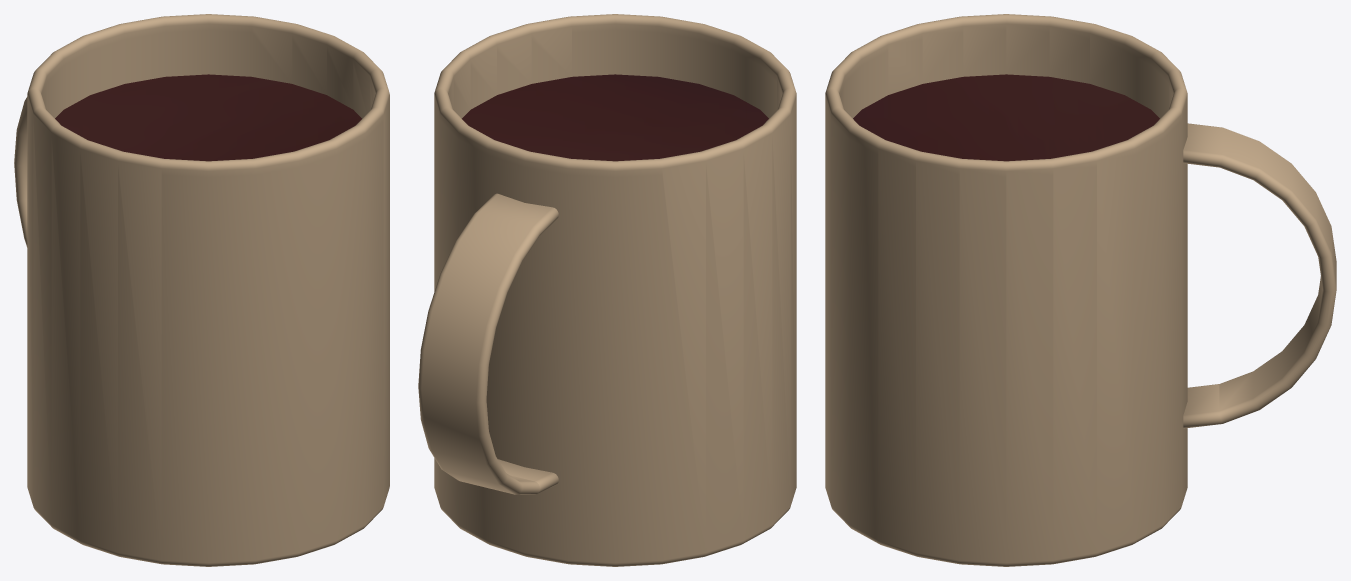
3 views of the same model, side by side, from view 1: azimuth 30°, elevation 25°; view 2: azimuth 150°, elevation 25°; view 3: azimuth 270°, elevation 25° (orthographic).
Visible parts, largest first — view 1: mesh4_mesh4-geometry, mesh4_mesh4-geometry_2, mesh1_mesh1-geometry; view 2: mesh4_mesh4-geometry, mesh1_mesh1-geometry, mesh4_mesh4-geometry_2; view 3: mesh4_mesh4-geometry, mesh4_mesh4-geometry_2, mesh1_mesh1-geometry.
Boxes of the visible parts, x1,y1,x2,y2 form: mesh4_mesh4-geometry: (27,14,389,566); mesh4_mesh4-geometry_2: (55,74,361,161); mesh1_mesh1-geometry: (14,97,27,247); mesh4_mesh4-geometry: (434,14,796,566); mesh1_mesh1-geometry: (418,193,558,494); mesh4_mesh4-geometry_2: (462,74,768,161); mesh4_mesh4-geometry: (825,14,1187,566); mesh4_mesh4-geometry_2: (853,74,1159,161); mesh1_mesh1-geometry: (1183,123,1336,428).
Bounding box in the file's own units: 0.4711 × 0.5798 × 0.6647.
4 materials, 1 textured.
